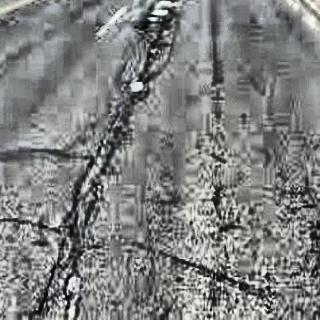crack: (56, 4, 184, 317)
